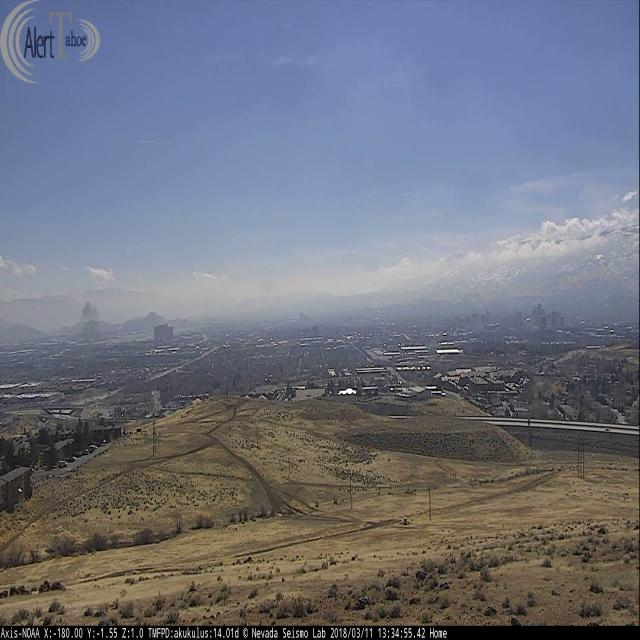smoke: (78, 299, 101, 378)
